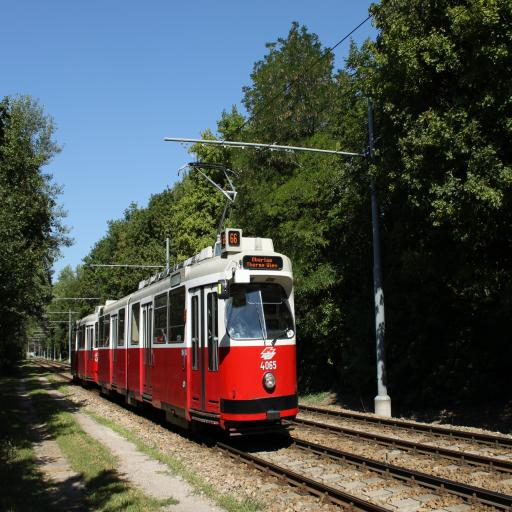E2-Tram: (71, 223, 301, 438)
